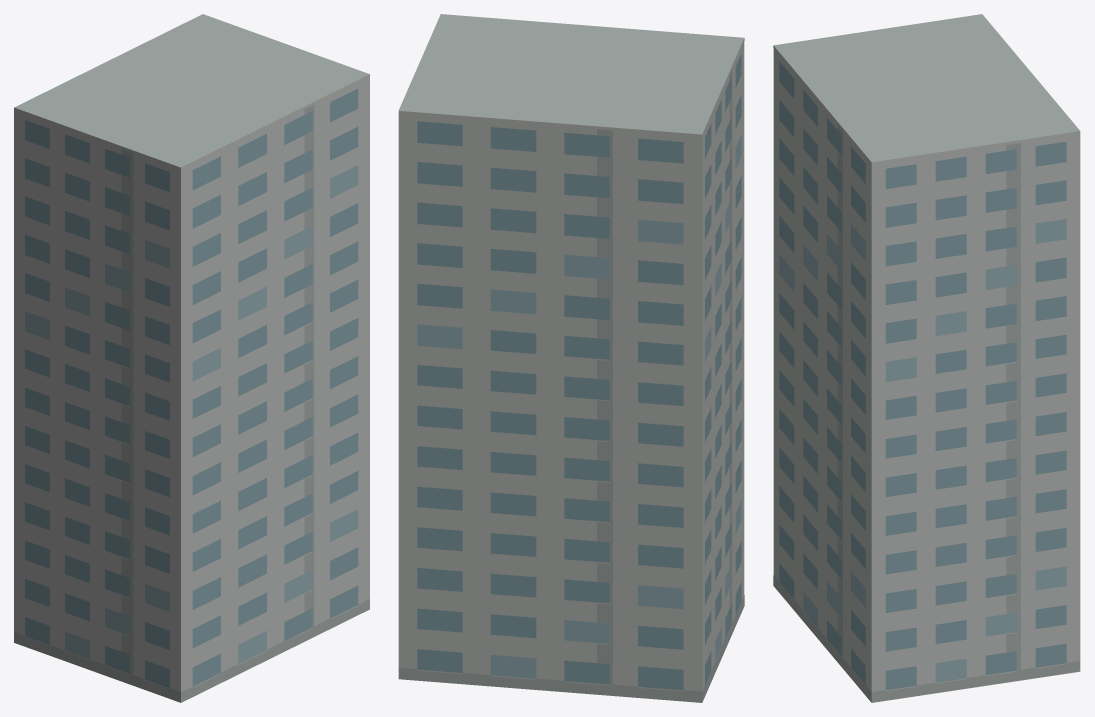
Rendered from residential-189a166d-5ce6-4ec6-8229-dec7b2045762.glb.
3 renders of one model, left to right at view 1: azimuth 30°, elevation 25°; view 2: azimuth 150°, elevation 25°; view 3: azimuth 270°, elevation 25°, orthographic. The views are drawn at different scales.
Visible parts, largest first — view 1: residential-189a166d-5ce6-4ec6-8229-dec7b2045762.tmp; view 2: residential-189a166d-5ce6-4ec6-8229-dec7b2045762.tmp; view 3: residential-189a166d-5ce6-4ec6-8229-dec7b2045762.tmp.
Part boxes in pixels (left/top/right/bottom): residential-189a166d-5ce6-4ec6-8229-dec7b2045762.tmp: left=14, top=14, right=369, bottom=702; residential-189a166d-5ce6-4ec6-8229-dec7b2045762.tmp: left=398, top=14, right=744, bottom=702; residential-189a166d-5ce6-4ec6-8229-dec7b2045762.tmp: left=773, top=14, right=1080, bottom=702.
Bounding box in the file's own units: 27.08 × 46 × 23.68.
